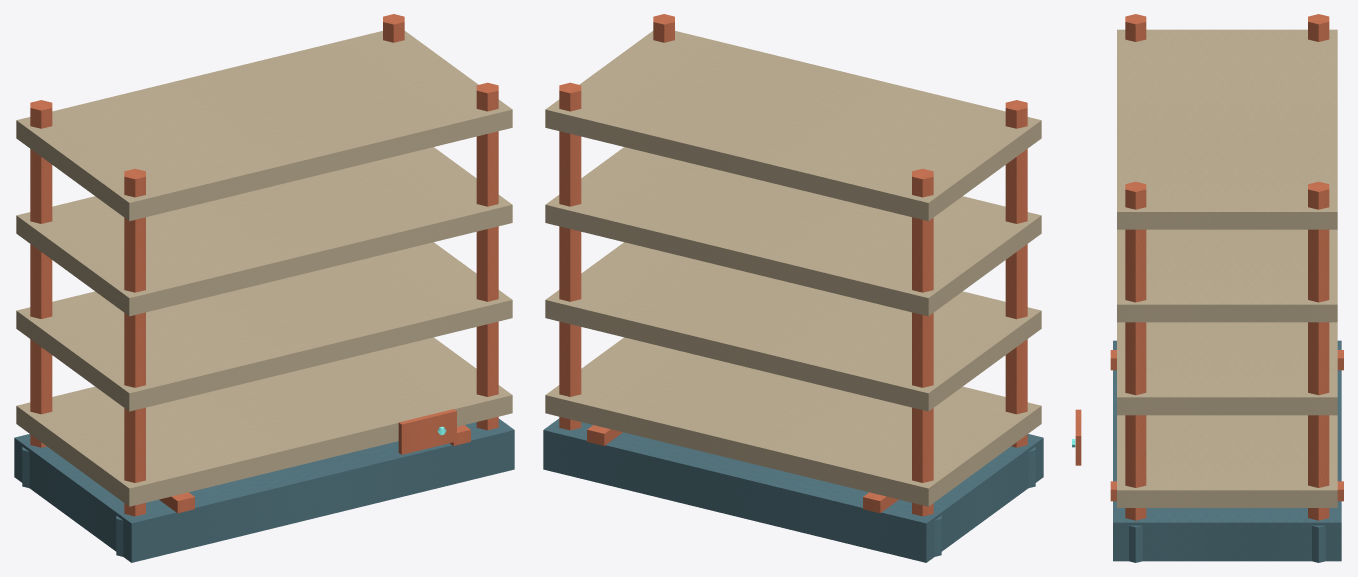
Rendered from atlas100-s044-a06.lod1.glb.
3 views of the same model, side by side, from view 1: azimuth 30°, elevation 25°; view 2: azimuth 150°, elevation 25°; view 3: azimuth 270°, elevation 25° (orthographic). The views are drawn at different scales.
Parts seen in each view (by area): view 1: atlas100-s044-a06:part-014, atlas100-s044-a06:part-013, atlas100-s044-a06:part-012, atlas100-s044-a06:part-011, atlas100-s044-a06:part-000, atlas100-s044-a06:part-009, atlas100-s044-a06:part-005, atlas100-s044-a06:part-003, atlas100-s044-a06:part-015; view 2: atlas100-s044-a06:part-014, atlas100-s044-a06:part-013, atlas100-s044-a06:part-011, atlas100-s044-a06:part-012, atlas100-s044-a06:part-000, atlas100-s044-a06:part-007, atlas100-s044-a06:part-003, atlas100-s044-a06:part-005; view 3: atlas100-s044-a06:part-014, atlas100-s044-a06:part-012, atlas100-s044-a06:part-013, atlas100-s044-a06:part-011, atlas100-s044-a06:part-000, atlas100-s044-a06:part-009, atlas100-s044-a06:part-007, atlas100-s044-a06:part-003, atlas100-s044-a06:part-005, atlas100-s044-a06:part-008, atlas100-s044-a06:part-010, atlas100-s044-a06:part-015.
Boxes of the visible parts, bbox=[...] form: atlas100-s044-a06:part-014: bbox=[16, 31, 512, 221]; atlas100-s044-a06:part-013: bbox=[16, 147, 512, 316]; atlas100-s044-a06:part-012: bbox=[16, 242, 512, 411]; atlas100-s044-a06:part-011: bbox=[16, 337, 512, 506]; atlas100-s044-a06:part-000: bbox=[14, 418, 514, 562]; atlas100-s044-a06:part-009: bbox=[476, 82, 498, 430]; atlas100-s044-a06:part-005: bbox=[124, 168, 145, 516]; atlas100-s044-a06:part-003: bbox=[30, 100, 52, 447]; atlas100-s044-a06:part-015: bbox=[398, 409, 456, 454]; atlas100-s044-a06:part-014: bbox=[545, 31, 1041, 221]; atlas100-s044-a06:part-013: bbox=[545, 147, 1041, 316]; atlas100-s044-a06:part-011: bbox=[545, 337, 1041, 506]; atlas100-s044-a06:part-012: bbox=[545, 242, 1041, 411]; atlas100-s044-a06:part-000: bbox=[543, 418, 1043, 562]; atlas100-s044-a06:part-007: bbox=[559, 82, 581, 430]; atlas100-s044-a06:part-003: bbox=[912, 168, 933, 516]; atlas100-s044-a06:part-005: bbox=[1005, 100, 1027, 447]; atlas100-s044-a06:part-014: bbox=[1117, 29, 1337, 229]; atlas100-s044-a06:part-012: bbox=[1117, 322, 1337, 415]; atlas100-s044-a06:part-013: bbox=[1117, 229, 1337, 322]; atlas100-s044-a06:part-011: bbox=[1117, 415, 1337, 507]; atlas100-s044-a06:part-000: bbox=[1113, 340, 1341, 561]; atlas100-s044-a06:part-009: bbox=[1125, 181, 1146, 520]; atlas100-s044-a06:part-007: bbox=[1308, 181, 1329, 520]; atlas100-s044-a06:part-003: bbox=[1308, 14, 1329, 41]; atlas100-s044-a06:part-005: bbox=[1125, 14, 1146, 41]; atlas100-s044-a06:part-008: bbox=[1312, 525, 1325, 562]; atlas100-s044-a06:part-010: bbox=[1129, 525, 1142, 562]; atlas100-s044-a06:part-015: bbox=[1075, 409, 1081, 465].
Size of the model in its own units: 2.69 by 2.48 by 1.66.
4 materials, 4 textured.
